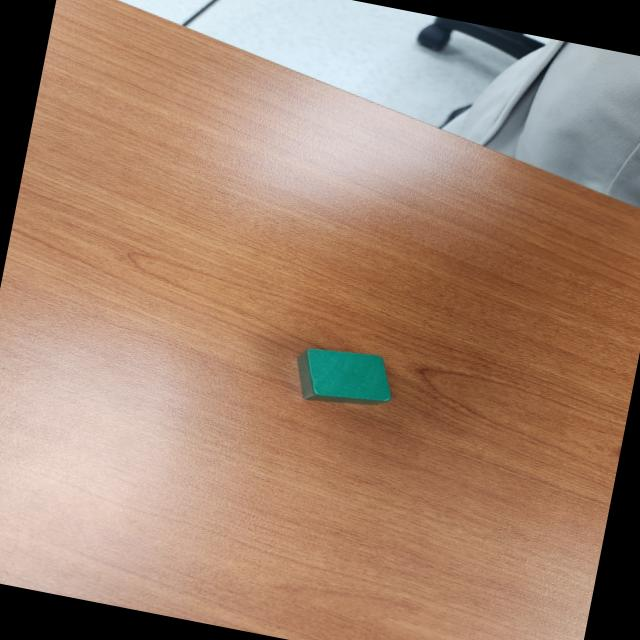green: (290, 340, 399, 414)
